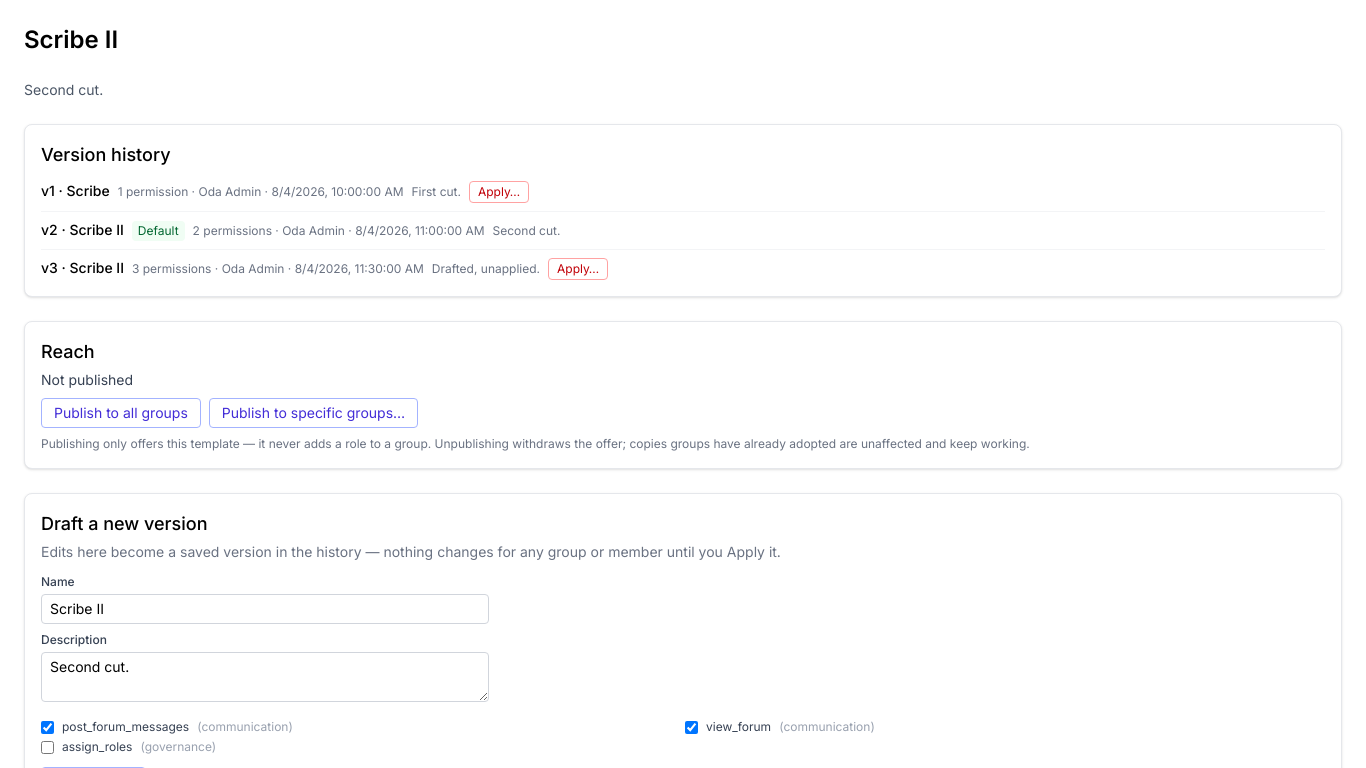
Test case: AdminRoleTemplateDetail (FEAT-H040 STORY-2/3/4) › STORY-3: Apply is a danger ceremony with the added/removed diff and the blast-radius line
This screenshot has width=1366, height=768.
Expected: the list item with test id "version-row-3" is shown, [41,249,1325,280]
What coordinates should you click on to do the following:
click the button with test id "apply-version-3"
I would click on:
 (578, 269)
Its box is [548,258,608,280].
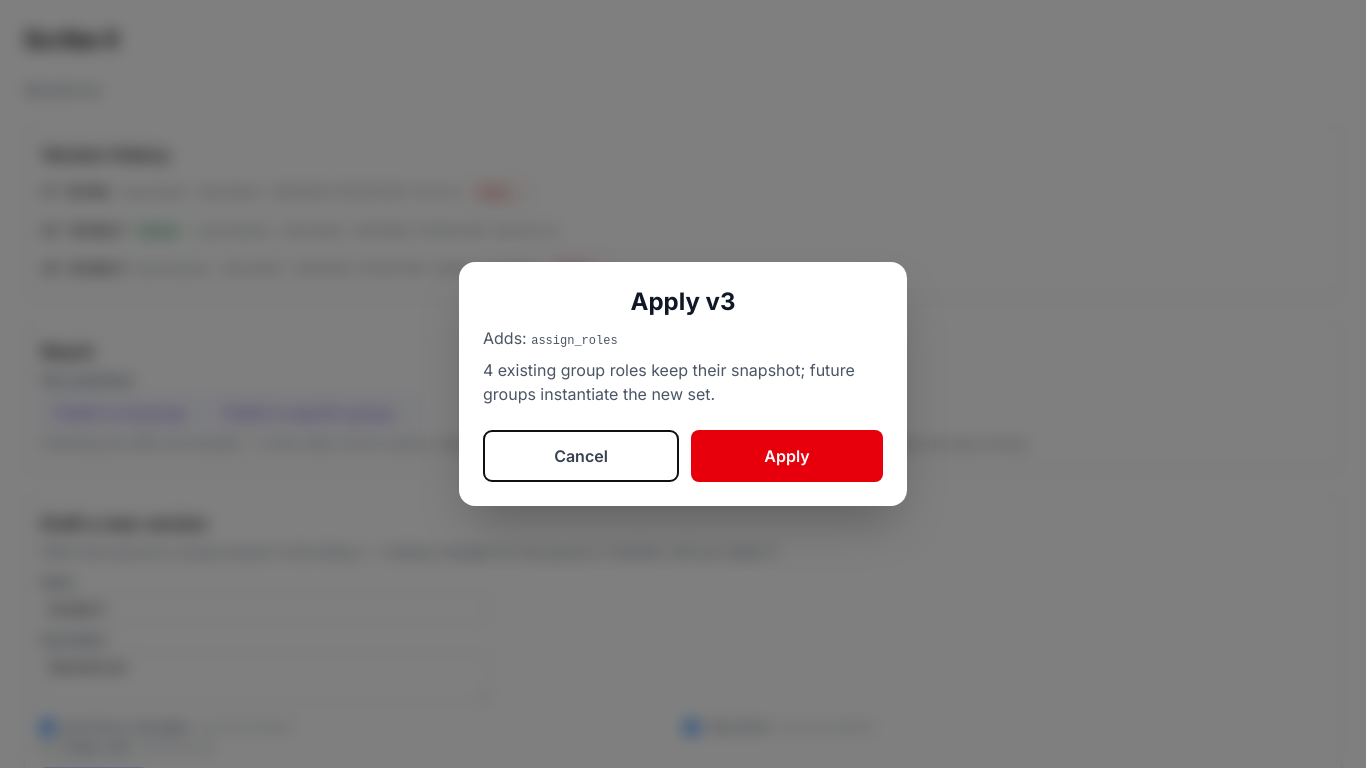
Now the element with test id "diff-added" shows "assign_roles", box [531,334,618,348]
Now the text with test id "blast-radius" shows "4 existing group roles keep their snapshot; future groups instantiate the new set.", box [483,358,883,406]
